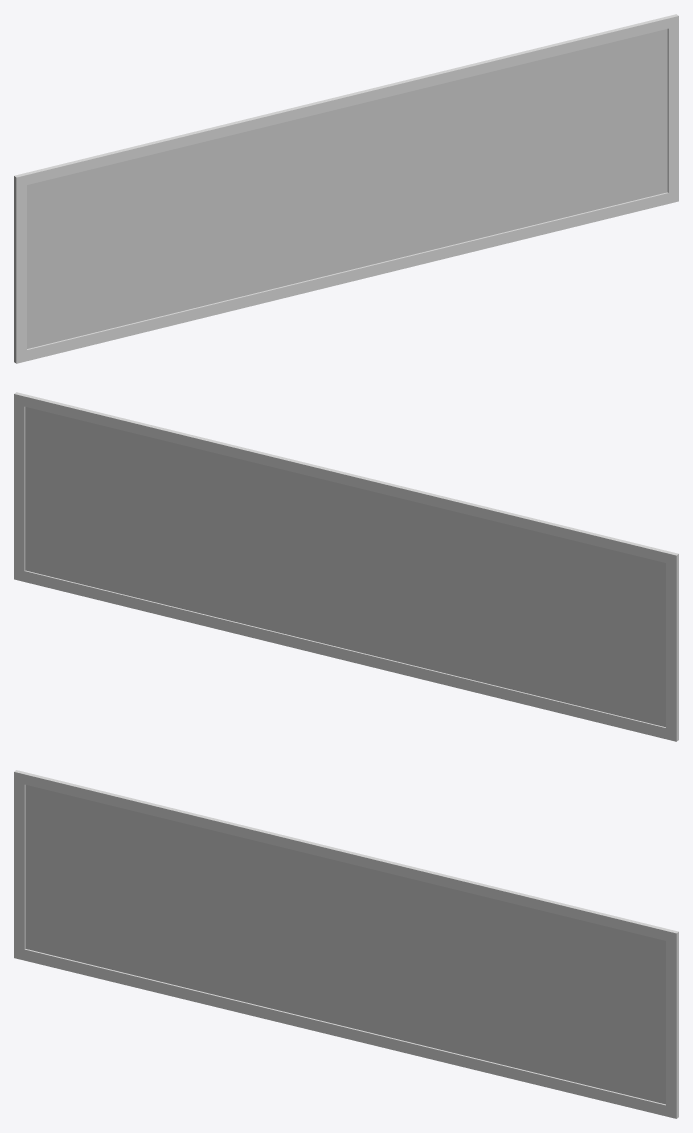
The model's file is ElementoInterfazBlanco.fbx.
3 views of the same model, one above another, from view 1: azimuth 30°, elevation 25°; view 2: azimuth 150°, elevation 25°; view 3: azimuth 330°, elevation 25° (orthographic).
Visible parts, largest first — view 1: Cube.001; view 2: Cube.001; view 3: Cube.001.
Part boxes in pixels (x1,y1,x2,y2): Cube.001: (14, 14, 678, 363); Cube.001: (14, 392, 678, 741); Cube.001: (14, 770, 678, 1118).
Bounding box in the file's own units: 3.57 × 0.9581 × 0.0231.
